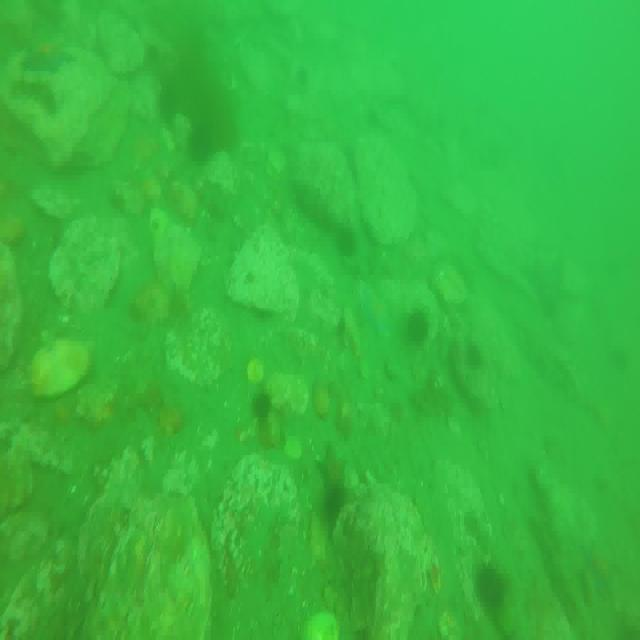echinus: (479, 562, 506, 612), (335, 218, 358, 262), (326, 487, 348, 526), (410, 307, 430, 344), (255, 389, 274, 418), (193, 126, 212, 155), (468, 342, 482, 374), (296, 64, 309, 86)
starfish: (23, 44, 80, 76), (316, 446, 348, 496), (362, 292, 391, 336)
